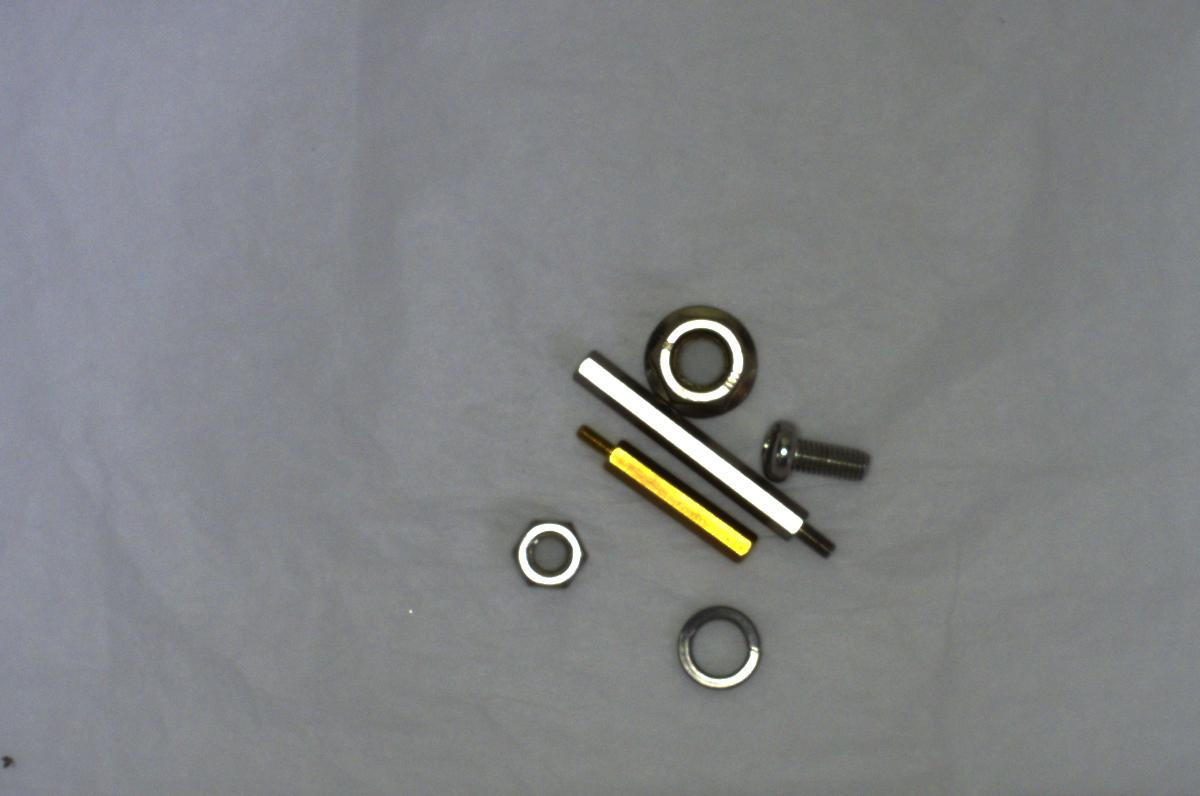Flange nut: (631, 295, 765, 425)
Hexagon nut: (507, 516, 593, 592)
Hexagon pillar: (566, 421, 761, 566)
Hexagonal steel column: (562, 341, 847, 565)
Round head screw: (758, 412, 867, 488)
Spring washer: (677, 593, 771, 694)
